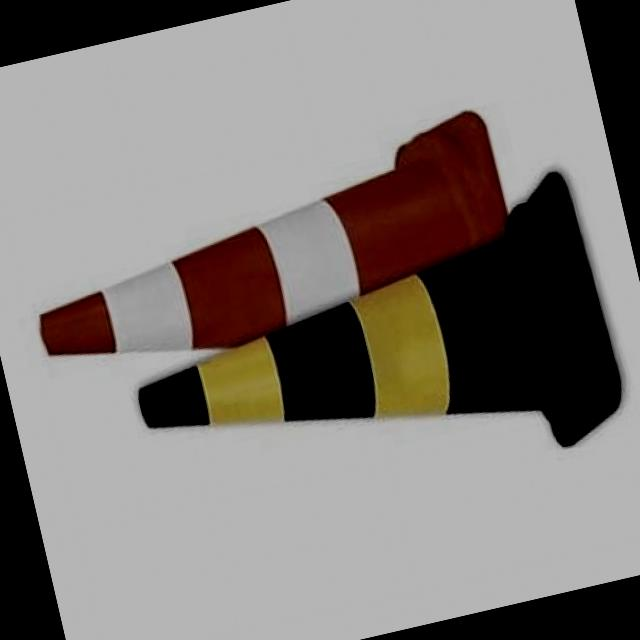cone: (108, 180, 618, 526)
